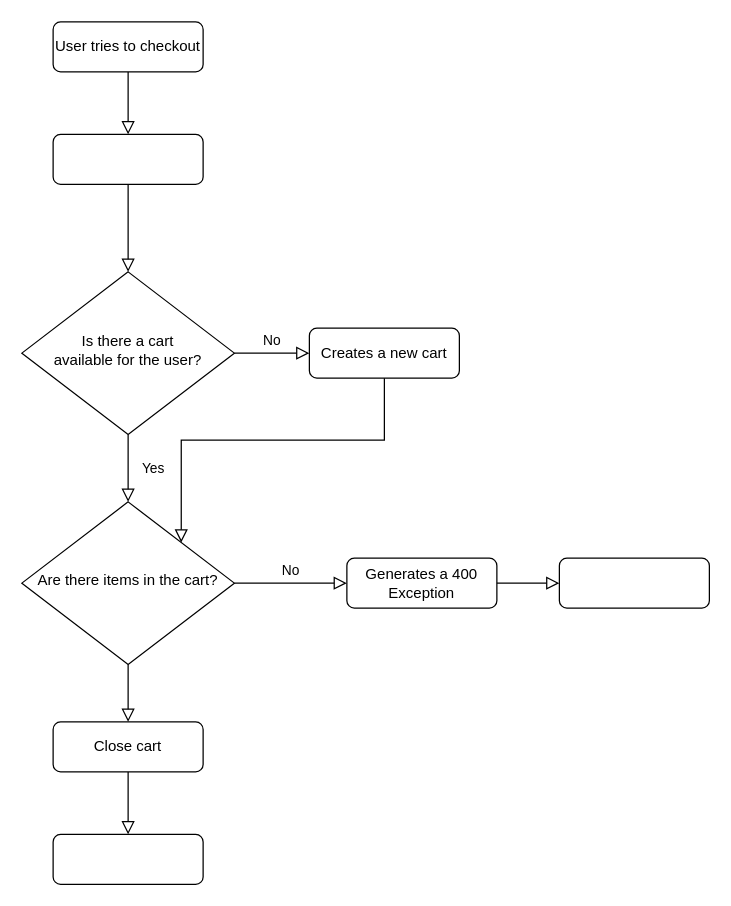
This 731x906 diagram has some shape labels left out. The box of each missing label's shape, as (x1, y1, x2, y2) in pixels:
Gets the user from Request: (52, 133, 203, 184)
Returns closed cart: (52, 833, 203, 884)
Returns the error: (558, 557, 709, 608)
